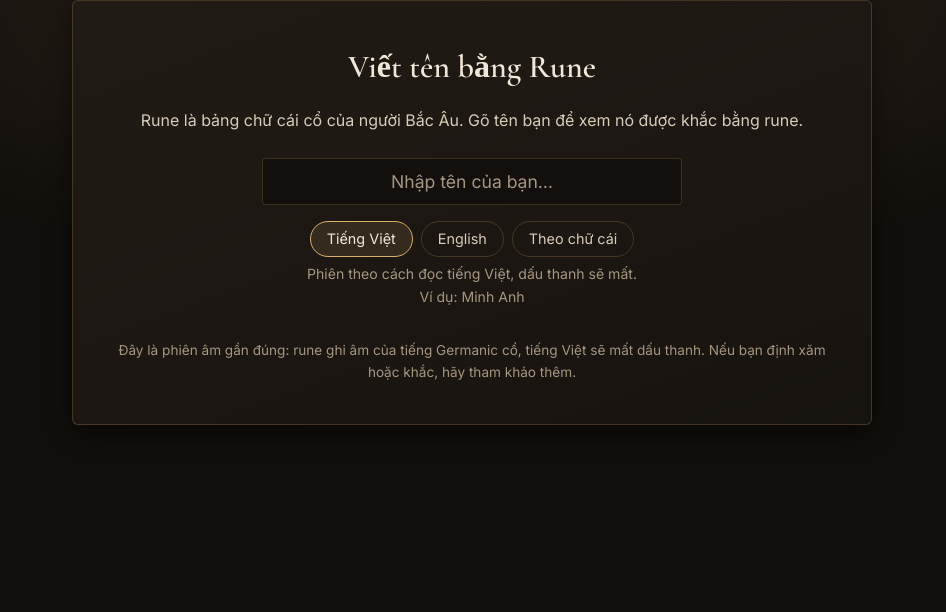
NameWriterTab › ký tự không có rune thì báo đã bỏ qua
Type "Minh 2!" into the field named "Tên cần viết bằng rune" at (472, 181), box [262,158,682,205]
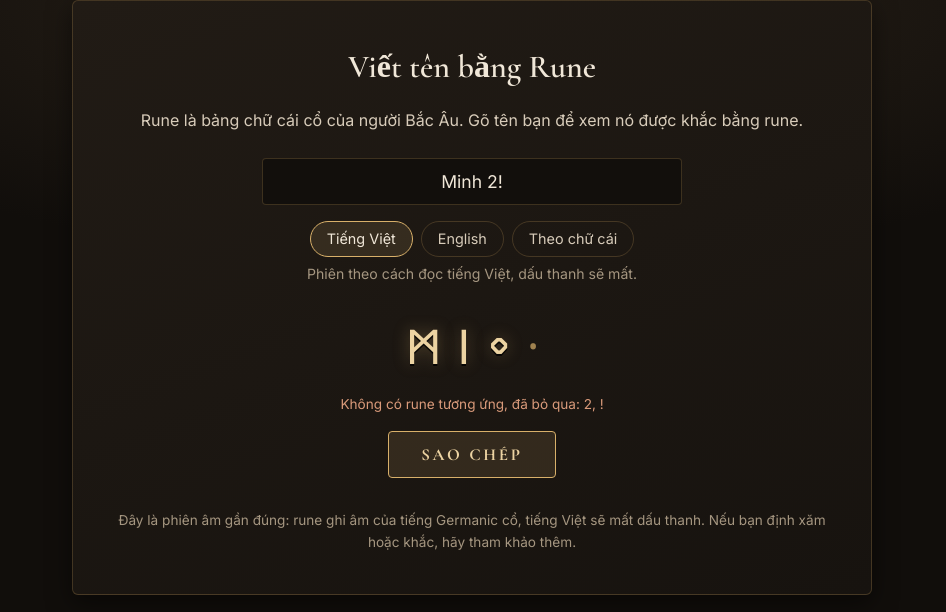
expect the text "Không có rune tương ứng, đã bỏ qua: 2, !" is shown: met, box [340,396,604,412]
